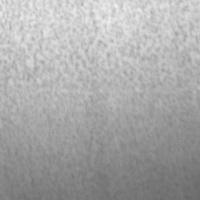pitted_surface: (0, 0, 199, 138)
